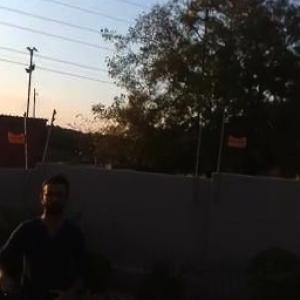follow: (0, 169, 101, 299)
